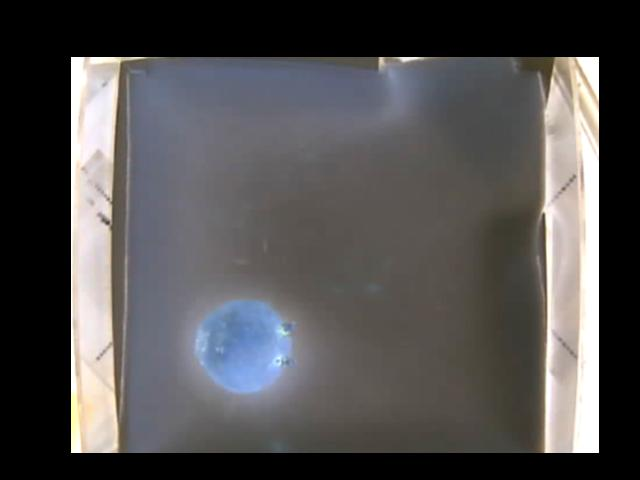Potato: (194, 299, 295, 394)
